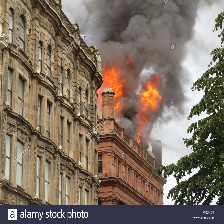fire: (135, 78, 167, 142), (96, 62, 125, 112)
smoke: (89, 1, 203, 80)
